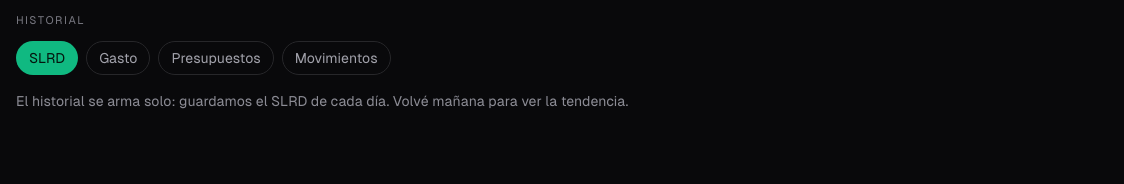
Test case: HistorialScreen › should_SwitchToGastoTab_When_TabClicked
What coordinates should you click on to do the following:
click the button "Gasto"
I would click on:
 (118, 58)
Its box is [86,40,150,74].
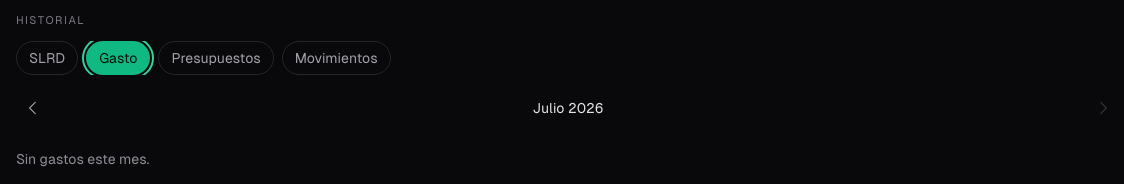
Result: the text "Sin gastos este mes." is shown at [16,150,149,166]
